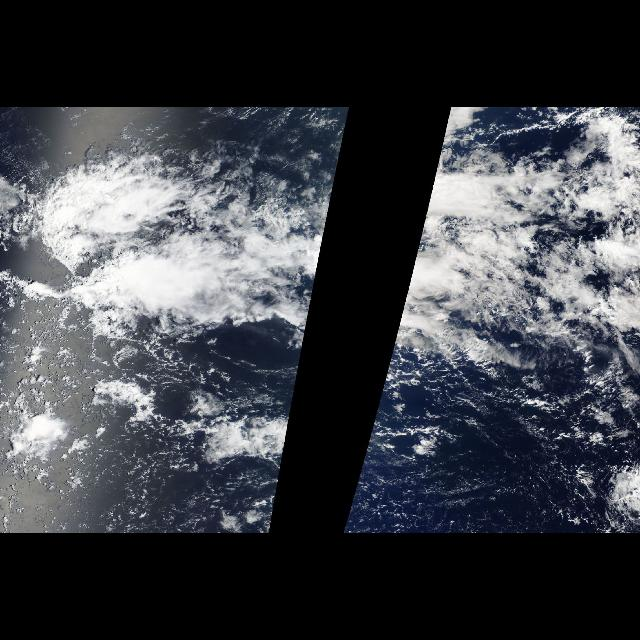Fish: (23, 146, 305, 344)
